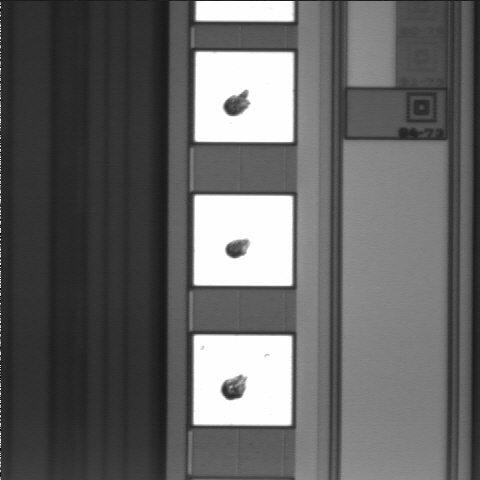pad: (194, 195, 293, 286), (195, 52, 293, 142), (194, 335, 292, 425)
